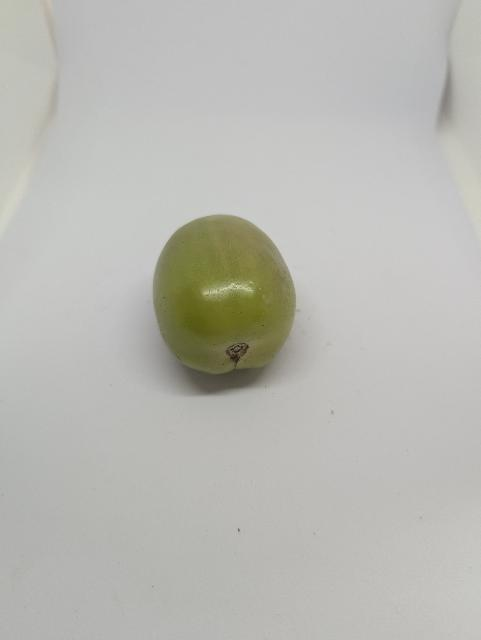green: (140, 200, 305, 404)
